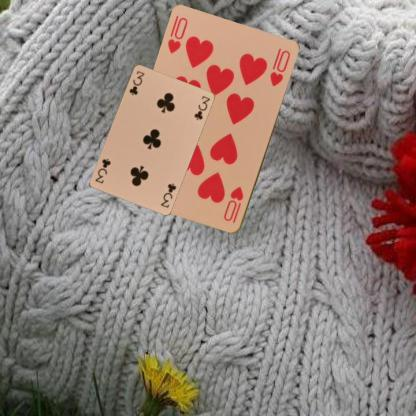10h: (164, 15, 190, 55), (221, 184, 245, 225)
3c: (127, 68, 146, 97), (158, 180, 177, 209)
